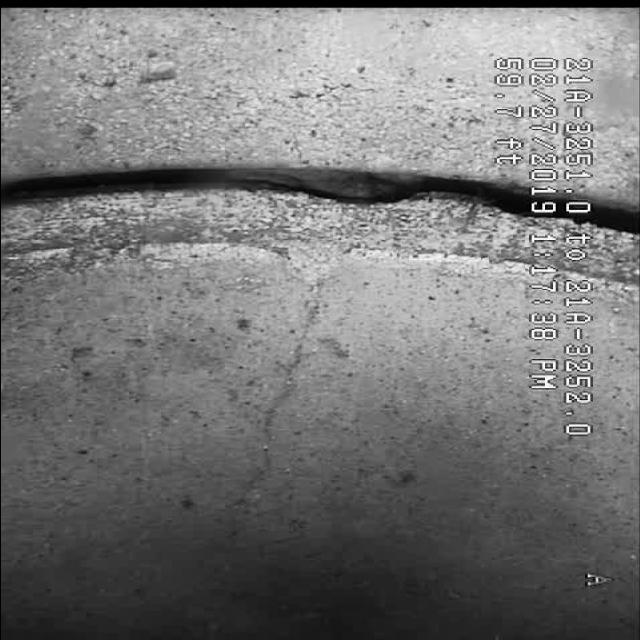Crack: (176, 245, 383, 522)
